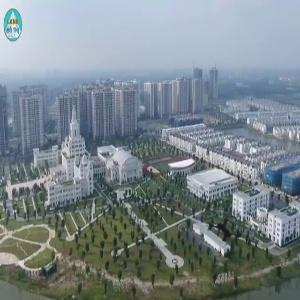drone: (197, 199, 257, 259)
